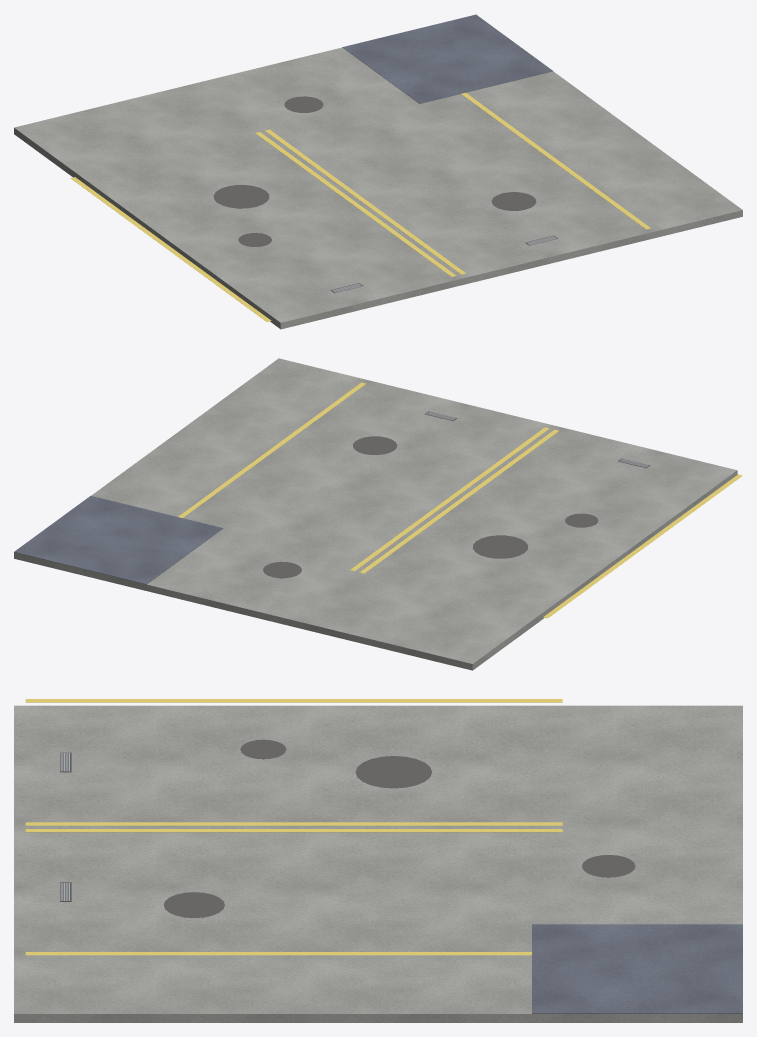
The model's file is g_floor.glb.
The picture shows the model from 3 angles, top to bottom: view 1: azimuth 30°, elevation 25°; view 2: azimuth 150°, elevation 25°; view 3: azimuth 270°, elevation 25°; orthographic projection. The views are drawn at different scales.
Visible parts, largest first — view 1: g_floor_conc_f, g_floor_carpet, g_floor_paint_y, g_floor_oil; view 2: g_floor_conc_f, g_floor_carpet, g_floor_paint_y, g_floor_oil; view 3: g_floor_conc_f, g_floor_carpet, g_floor_paint_y, g_floor_oil.
Part boxes in pixels (bbox=[...]): g_floor_conc_f: bbox=[14, 47, 742, 329]; g_floor_carpet: bbox=[342, 14, 552, 103]; g_floor_paint_y: bbox=[70, 92, 650, 321]; g_floor_oil: bbox=[213, 96, 536, 246]; g_floor_conc_f: bbox=[14, 358, 737, 670]; g_floor_carpet: bbox=[14, 496, 223, 584]; g_floor_paint_y: bbox=[178, 382, 742, 618]; g_floor_oil: bbox=[263, 436, 598, 578]; g_floor_conc_f: bbox=[14, 705, 742, 1022]; g_floor_carpet: bbox=[532, 924, 742, 1013]; g_floor_paint_y: bbox=[25, 699, 562, 955]; g_floor_oil: bbox=[163, 739, 635, 917].
Size of the model in its own units: 9.7 by 0.136 by 9.5.
Materials: 6 (2 with a texture image).
